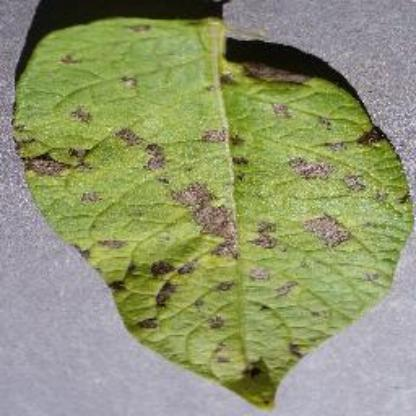Early-Blight: (10, 12, 414, 404)
